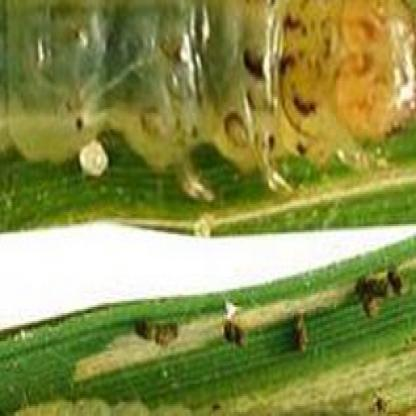leaf-folder: (0, 0, 412, 191)
